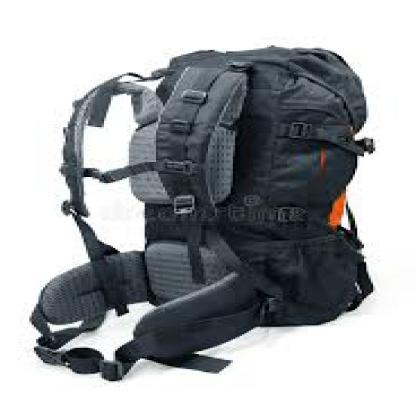morral: (13, 24, 393, 384)
